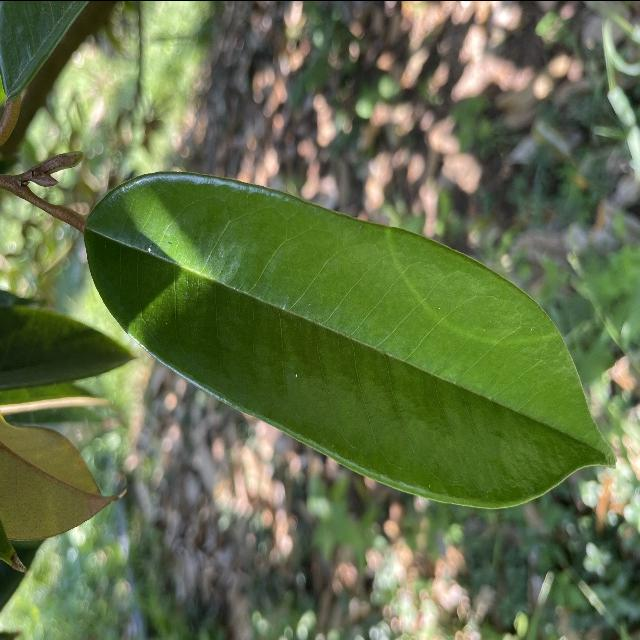No Disease: (75, 165, 625, 522)
